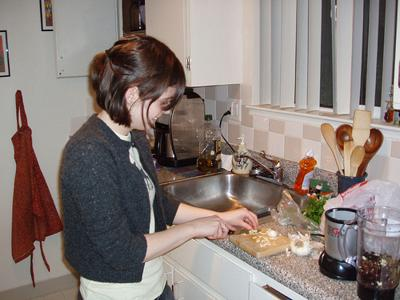person: (58, 34, 257, 298)
